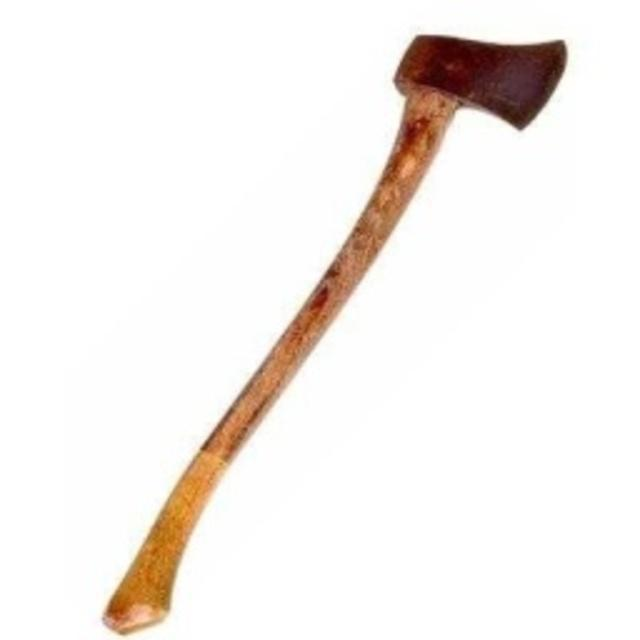ax: (99, 25, 570, 638)
